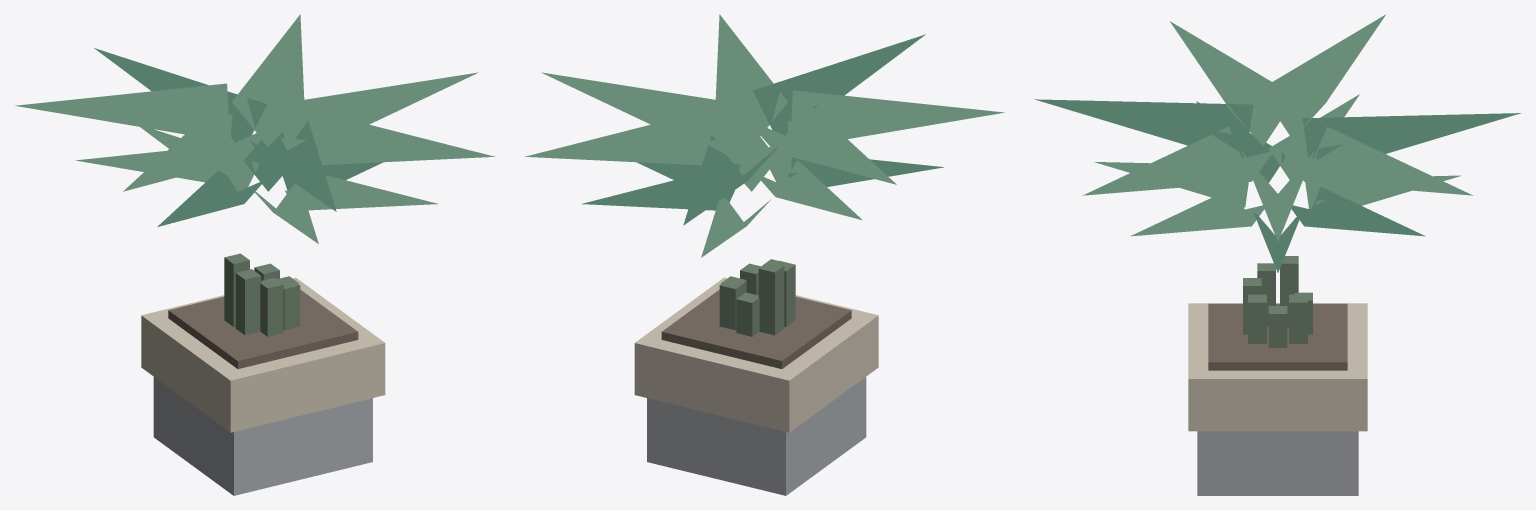
3 renders of one model, left to right at view 1: azimuth 30°, elevation 25°; view 2: azimuth 150°, elevation 25°; view 3: azimuth 270°, elevation 25°, orthographic.
Parts seen in each view (by area): view 1: RG-GAME-02-INDOOR-GREENERY-V16__STANDALONE_PL06__ASSET_1F_le (×2), RG-GAME-02-INDOOR-GREENERY-V16__STANDALONE_PL06__ASSET_1F_st (×2), RG-GAME-02-INDOOR-GREENERY-V16__STANDALONE_PL06__ASSET_1F_ri, RG-GAME-02-INDOOR-GREENERY-V16__STANDALONE_PL06__ASSET_1F_so; view 2: RG-GAME-02-INDOOR-GREENERY-V16__STANDALONE_PL06__ASSET_1F_le (×2), RG-GAME-02-INDOOR-GREENERY-V16__STANDALONE_PL06__ASSET_1F_st (×2), RG-GAME-02-INDOOR-GREENERY-V16__STANDALONE_PL06__ASSET_1F_ri, RG-GAME-02-INDOOR-GREENERY-V16__STANDALONE_PL06__ASSET_1F_so; view 3: RG-GAME-02-INDOOR-GREENERY-V16__STANDALONE_PL06__ASSET_1F_le (×2), RG-GAME-02-INDOOR-GREENERY-V16__STANDALONE_PL06__ASSET_1F_st (×2), RG-GAME-02-INDOOR-GREENERY-V16__STANDALONE_PL06__ASSET_1F_ri, RG-GAME-02-INDOOR-GREENERY-V16__STANDALONE_PL06__ASSET_1F_so.
Part boxes in pixels (box(x1,y1,x2,y2)): RG-GAME-02-INDOOR-GREENERY-V16__STANDALONE_PL06__ASSET_1F_le (×2): box(15, 14, 495, 243); RG-GAME-02-INDOOR-GREENERY-V16__STANDALONE_PL06__ASSET_1F_st (×2): box(153, 253, 372, 495); RG-GAME-02-INDOOR-GREENERY-V16__STANDALONE_PL06__ASSET_1F_ri: box(141, 277, 385, 432); RG-GAME-02-INDOOR-GREENERY-V16__STANDALONE_PL06__ASSET_1F_so: box(168, 289, 358, 368); RG-GAME-02-INDOOR-GREENERY-V16__STANDALONE_PL06__ASSET_1F_le (×2): box(524, 14, 1004, 257); RG-GAME-02-INDOOR-GREENERY-V16__STANDALONE_PL06__ASSET_1F_st (×2): box(647, 259, 866, 495); RG-GAME-02-INDOOR-GREENERY-V16__STANDALONE_PL06__ASSET_1F_ri: box(634, 277, 878, 432); RG-GAME-02-INDOOR-GREENERY-V16__STANDALONE_PL06__ASSET_1F_so: box(661, 289, 851, 368); RG-GAME-02-INDOOR-GREENERY-V16__STANDALONE_PL06__ASSET_1F_le (×2): box(1034, 14, 1521, 272); RG-GAME-02-INDOOR-GREENERY-V16__STANDALONE_PL06__ASSET_1F_st (×2): box(1197, 256, 1358, 495); RG-GAME-02-INDOOR-GREENERY-V16__STANDALONE_PL06__ASSET_1F_ri: box(1188, 303, 1367, 431); RG-GAME-02-INDOOR-GREENERY-V16__STANDALONE_PL06__ASSET_1F_so: box(1208, 303, 1347, 370).
Size of the model in its own units: 0.6604 by 0.5402 by 0.6774.
